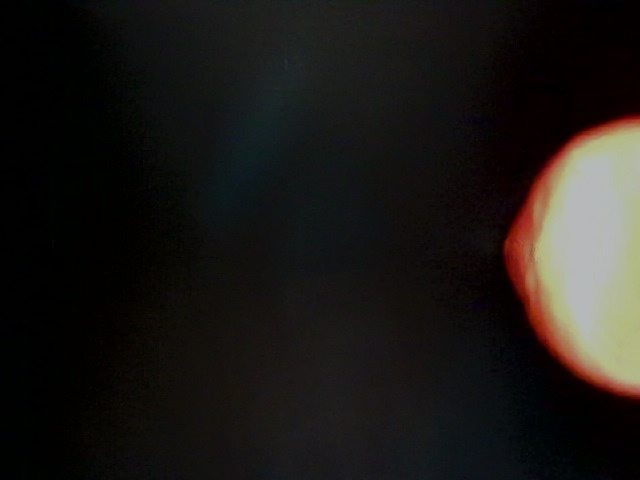KHSLJ: (1, 2, 325, 295)
